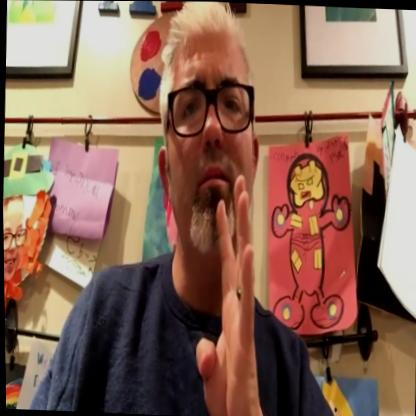Talk: (135, 1, 291, 416)
